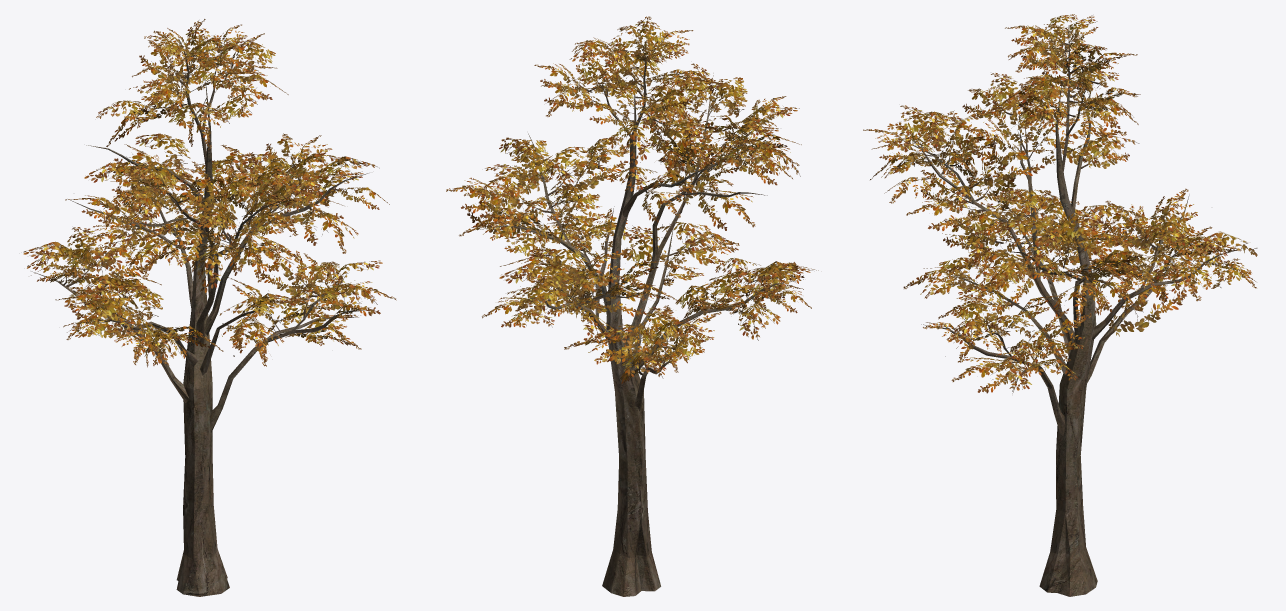
File: bg_anh_tree_autumntree01_sm_phs.FBX
3 views of the same model, side by side, from view 1: azimuth 30°, elevation 25°; view 2: azimuth 150°, elevation 25°; view 3: azimuth 270°, elevation 25° (orthographic).
Visible parts, largest first — view 1: bg_anh_tree_autumntree01_sm_phs; view 2: bg_anh_tree_autumntree01_sm_phs; view 3: bg_anh_tree_autumntree01_sm_phs.
Boxes of the visible parts, left/top/right/bottom form: bg_anh_tree_autumntree01_sm_phs: left=23, top=19, right=396, bottom=596; bg_anh_tree_autumntree01_sm_phs: left=446, top=16, right=818, bottom=596; bg_anh_tree_autumntree01_sm_phs: left=863, top=14, right=1257, bottom=596.
Size of the model in its own units: 359 by 559 by 379.
